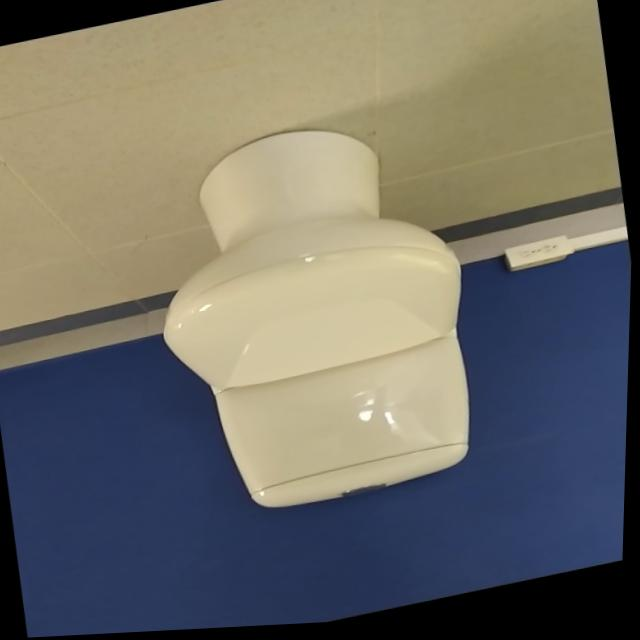toilet: (131, 103, 500, 536)
